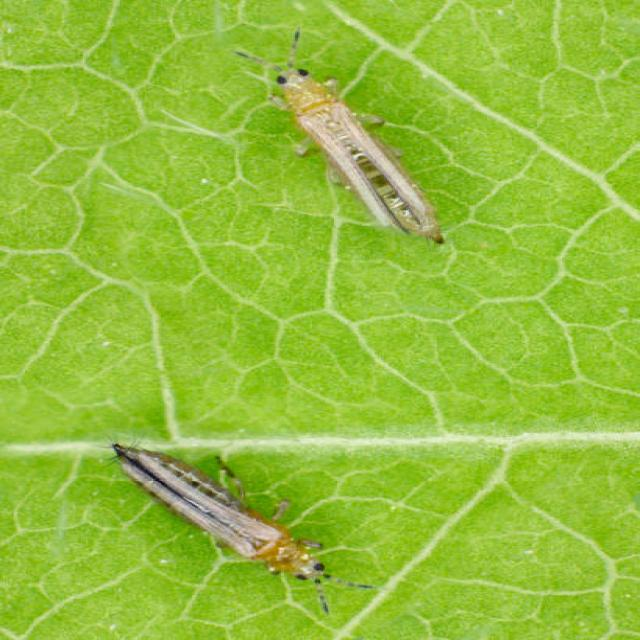Thrip-Adult-: (207, 23, 467, 261), (95, 431, 408, 610)
